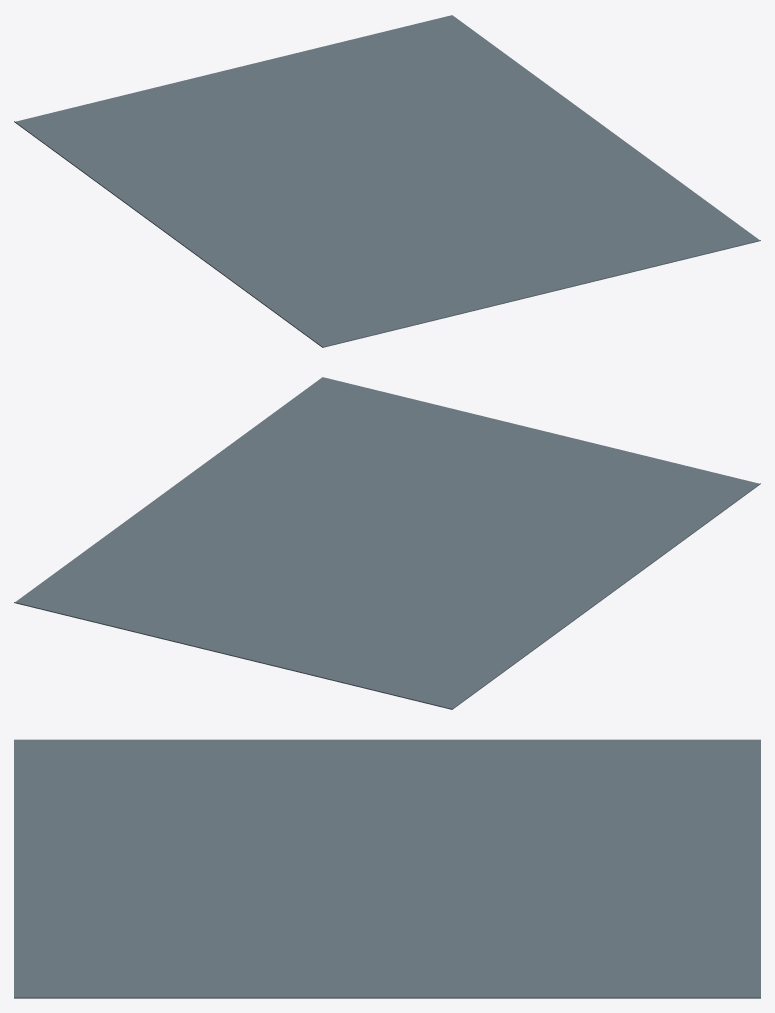
Rendered from tt_rink_surface_panel.glb.
3 views of the same model, one above another, from view 1: azimuth 30°, elevation 25°; view 2: azimuth 150°, elevation 25°; view 3: azimuth 270°, elevation 25° (orthographic). The views are drawn at different scales.
Visible parts, largest first — view 1: Rubber_Surface; view 2: Rubber_Surface; view 3: Rubber_Surface.
Part boxes in pixels (bbox=[...]): Rubber_Surface: bbox=[14, 15, 760, 347]; Rubber_Surface: bbox=[14, 377, 760, 709]; Rubber_Surface: bbox=[14, 739, 760, 998].
Size of what is drawn, in the model's own units: 5.3 by 0.012 by 6.47.
